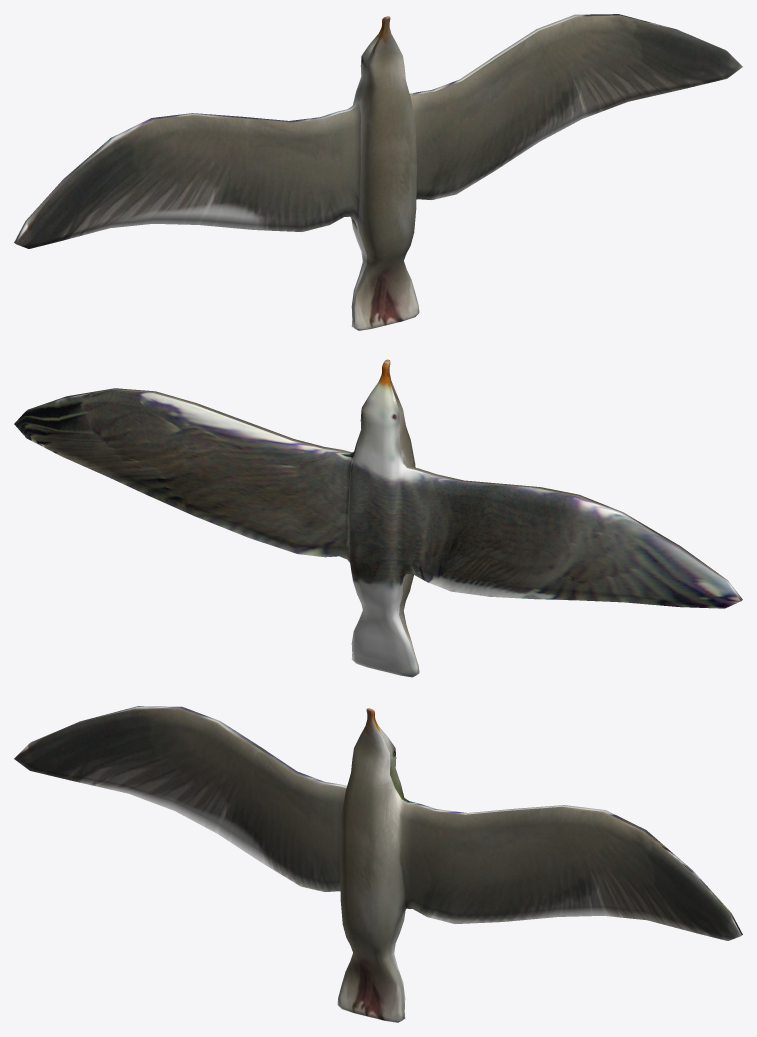
Rendered from Seagull.dae.
3 renders of one model, top to bottom at view 1: azimuth 30°, elevation 25°; view 2: azimuth 150°, elevation 25°; view 3: azimuth 330°, elevation 25°, orthographic.
Visible parts, largest first — view 1: Cube; view 2: Cube; view 3: Cube.
Part boxes in pixels (box(x1,y1,x2,y2)): Cube: box(14, 14, 742, 330); Cube: box(14, 359, 742, 677); Cube: box(14, 706, 742, 1022).
Size of the model in its own units: 22.15 by 1.98 by 8.99.
Materials: 1 (1 with a texture image).
